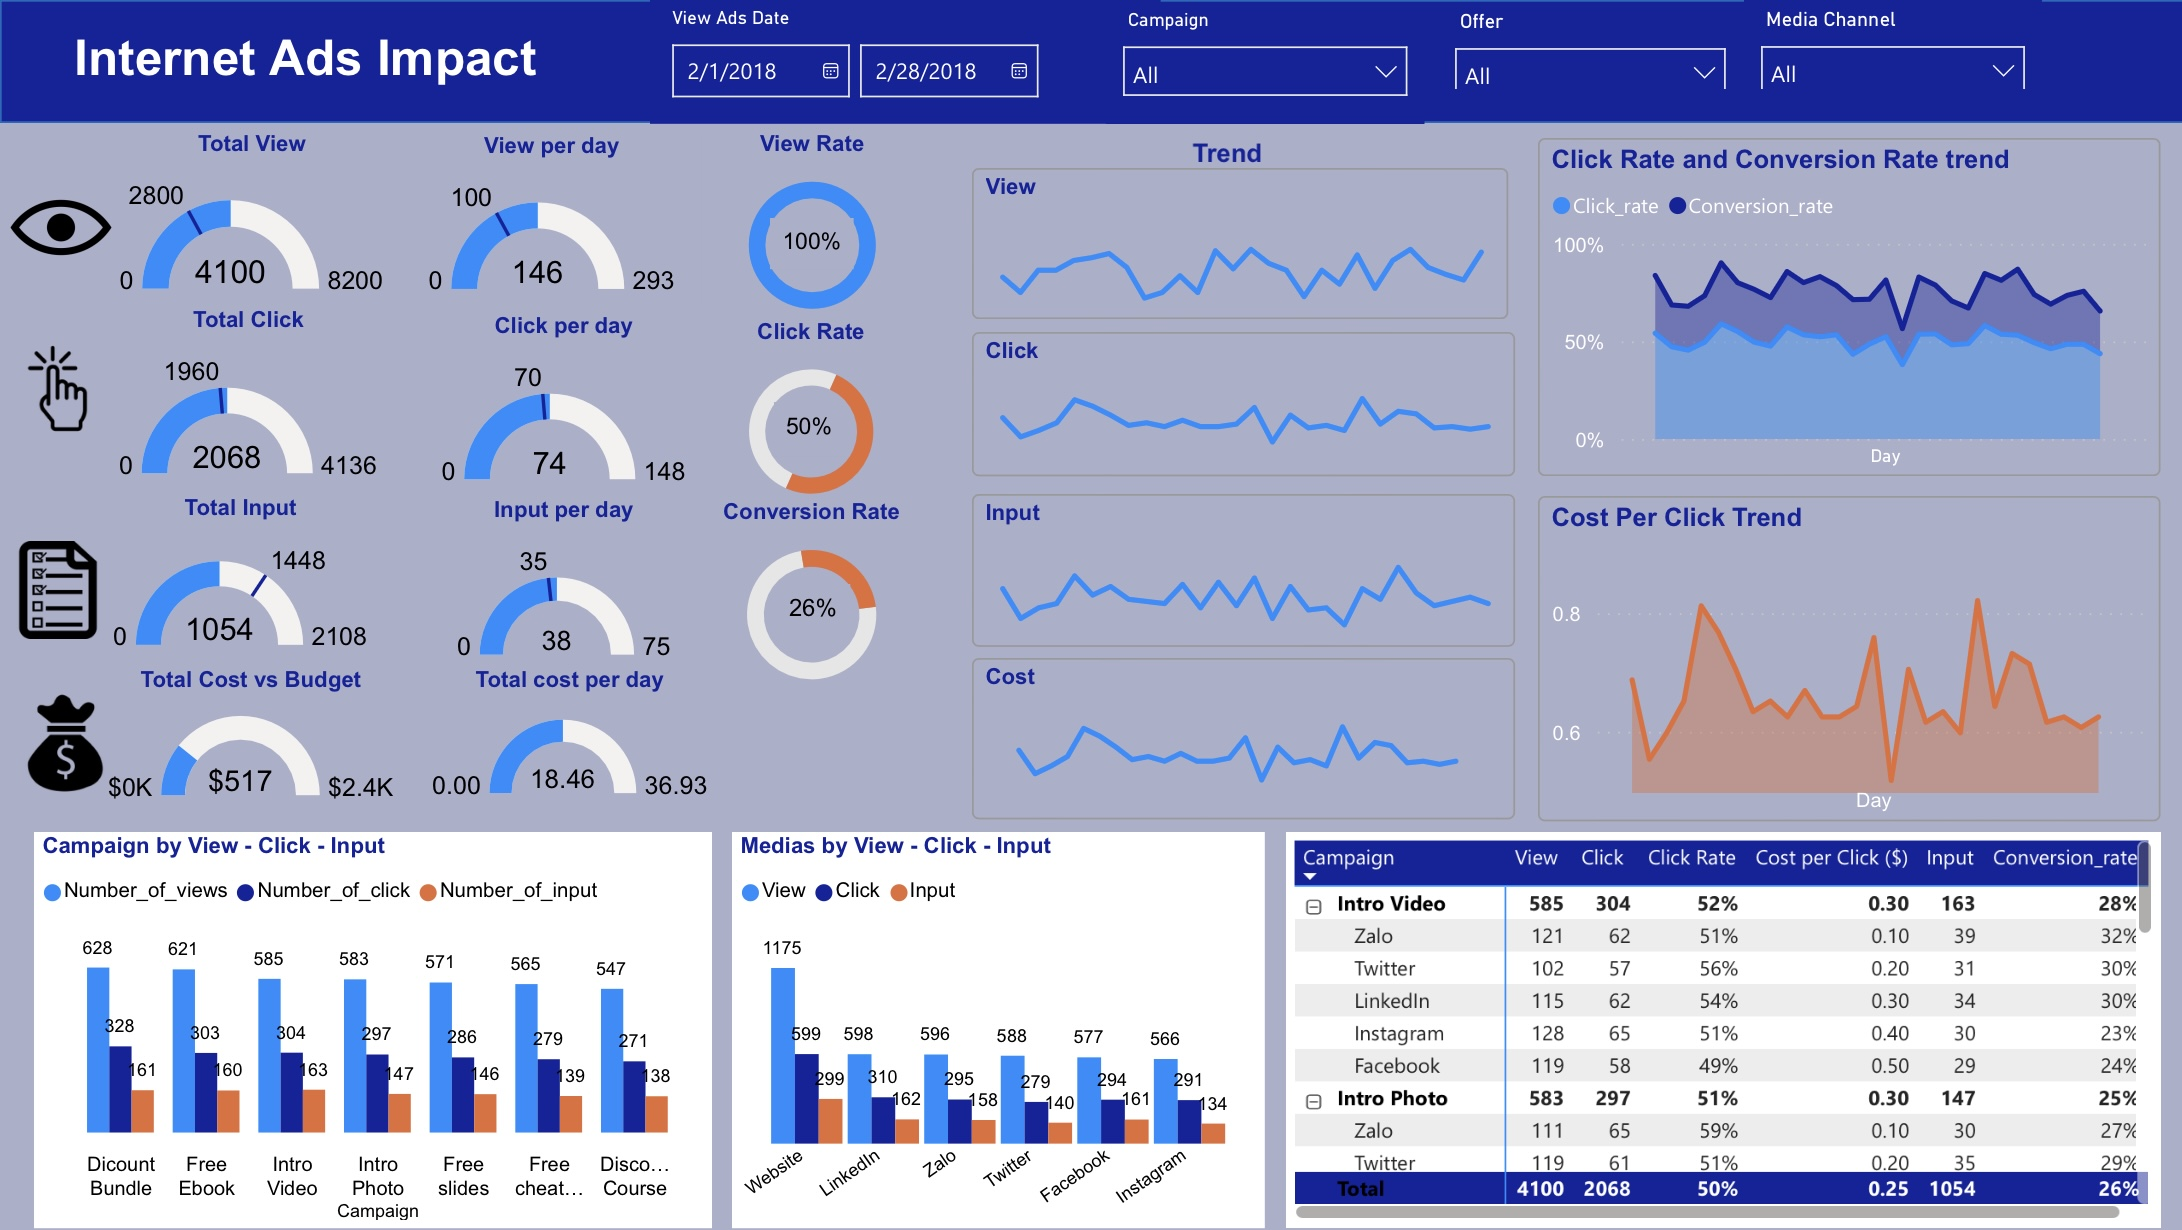

What the dashboard file says about the page in this screenshot:
{"tool":"powerbi","page":{"name":"Page 1","canvas":[1280,720],"ordinal":0},"visuals":[{"type":"textbox","title":"Trend","box":[692.7,81.3,299.2,27.1],"z":0},{"type":"donutChart","title":"View Rate","fields":{"Y":["Traffic1.Number_of_views"]},"box":[419,81,152,119],"z":1000},{"type":"donutChart","title":"Click Rate","fields":{"Y":["Traffic1.Number_of_click"],"Category":["Traffic1.Click Link?"]},"box":[405,186,189,111],"z":2000},{"type":"shape","box":[0,0,1280,72],"z":3000},{"type":"slicer","fields":{"Values":["Traffic1.View Ads Date"]},"box":[490,8,300,61],"z":4000},{"type":"pivotTable","fields":{"Rows":["Campaign.Campaign","Media.Media Channel"],"Values":["Traffic1.Number_of_views","Traffic1.Number_of_click","Traffic1.Click_rate","Avg(Media.Cost per click)","Traffic1.Number_of_input","Traffic1.Conversion_rate"]},"box":[764,487,516,232],"z":5000},{"type":"clusteredColumnChart","title":"Medias by View - Click - Input","fields":{"Category":["Media.Media Channel"],"Y":["Traffic1.Number_of_views","Traffic1.Number_of_click","Traffic1.Number_of_input"]},"box":[413,488,338,232],"z":6000},{"type":"clusteredColumnChart","title":"Campaign by View - Click - Input","fields":{"Category":["Campaign.Campaign"],"Y":["Traffic1.Number_of_views","Traffic1.Number_of_click","Traffic1.Number_of_input"]},"box":[22,485,383,234],"z":7000},{"type":"gauge","title":"Total Click","fields":{"TargetValue":["Campaign.number_of_goal_click"],"Y":["Traffic1.Number_of_click"]},"box":[106,186,179,107],"z":8000},{"type":"gauge","title":"Total View","fields":{"Y":["Traffic1.Number_of_views"],"TargetValue":["Campaign.MeasurGoal View"]},"box":[109,81,176,103],"z":9000},{"type":"gauge","title":"Total Input","fields":{"Y":["Traffic1.Number_of_input"],"TargetValue":["Campaign.Number_of_goal_input"]},"box":[109,292,170,99],"z":10000},{"type":"lineChart","title":"View","fields":{"Category":["Traffic1.View Ads Date"],"Y":["Traffic1.Number_of_views"]},"box":[569.2,98.4,314.2,88.3],"z":11000},{"type":"lineChart","title":"Click","fields":{"Y":["Traffic1.Number_of_click"],"Category":["Traffic1.View Ads Date"]},"box":[569.2,194.8,318.2,84.3],"z":12000},{"type":"card","fields":{"Values":["Traffic1.Actual_click_rate"]},"box":[481,236,41,32],"z":13000},{"type":"gauge","title":"Total Cost vs Budget","fields":{"Y":["Media.Total_cost"],"MaxValue":["Sum(Campaign.Spending Budget)"]},"box":[109,391,189,93],"z":14000},{"type":"gauge","title":"Input per day","fields":{"Y":["Traffic1.Input per day"],"TargetValue":["Traffic1.Goal input per day"]},"box":[285,290,176,103],"z":15000},{"type":"gauge","title":"View per day","fields":{"Y":["Traffic1.view_per_day"],"TargetValue":["Traffic1.goal_view_per_day"]},"box":[278,81,176,102],"z":16000},{"type":"gauge","fields":{"Y":["Media.Total cost per day"]},"box":[278,391,183,94],"z":17000},{"type":"stackedAreaChart","title":"Click Rate and Conversion Rate trend","fields":{"Y":["Traffic1.Click_rate","Traffic1.Conversion_rate"],"Category":["Traffic1.View Ads Date.Variation.Date Hierarchy.Day"]},"box":[900.5,81.3,364.4,197.8],"z":18000},{"type":"stackedAreaChart","title":"Cost Per Click Trend","fields":{"Category":["Traffic1.View Ads Date.Variation.Date Hierarchy.Day"],"Y":["Media.Total cost per day"]},"box":[900.5,290.1,364.4,190.7],"z":19000},{"type":"slicer","fields":{"Values":["Campaign.Campaign"]},"box":[718,8,186,60],"z":20000},{"type":"slicer","fields":{"Values":["Campaign.Offer"]},"box":[904,8,179,60],"z":21000},{"type":"slicer","fields":{"Values":["Media.Media Channel"]},"box":[1083,7,175,61],"z":22000},{"type":"gauge","title":"Click per day","fields":{"Y":["Traffic1.click_per_day"],"TargetValue":["Traffic1.goal_click_per_day"]},"box":[285,186,176,107],"z":23000},{"type":"card","fields":{"Values":["Traffic1.Number_of_views"]},"box":[471,132,49,31],"z":24000},{"type":"image","box":[0,98,106,88],"z":25000},{"type":"image","box":[0,182,91,129],"z":26000},{"type":"image","box":[8,306,83,85],"z":27000},{"type":"image","box":[12,399,77,81],"z":28000},{"type":"textbox","title":"Internet Ads Impact","box":[130,14,324,43],"z":29000},{"type":"donutChart","title":"Conversion Rate","fields":{"Category":["Traffic1.Input Form?"],"Y":["Traffic1.Number_of_views"]},"box":[419,290,163,120],"z":30000},{"type":"card","fields":{"Values":["Traffic1.Conversion_rate"]},"box":[479,342,43,25],"z":31000},{"type":"lineChart","title":"Cost","fields":{"Category":["Traffic1.View Ads Date.Variation.Date Hierarchy.Day"],"Y":["Media.Total_cost"]},"box":[569.2,385.5,318.2,94.4],"z":32000},{"type":"lineChart","title":"Input","fields":{"Y":["Traffic1.Number_of_input"],"Category":["Traffic1.View Ads Date"]},"box":[569.2,289.1,318.2,89.3],"z":33000},{"type":"image","box":[30,0,81,72],"z":34000}]}

Visuals, with their boxes in screenshot pixels (x1, y1, x2, y2), scaled from the page's 1280x720 canvas onto the 2182x1230 screenshot:
"Trend" textbox: (left=1181, top=139, right=1691, bottom=185)
"View Rate" donutChart: (left=714, top=138, right=973, bottom=342)
"Click Rate" donutChart: (left=690, top=318, right=1013, bottom=507)
shape: (left=0, top=0, right=2181, bottom=123)
slicer - Traffic1.View Ads Date: (left=835, top=14, right=1347, bottom=118)
pivotTable - Campaign.Campaign x Media.Media Channel: (left=1302, top=832, right=2181, bottom=1228)
"Medias by View - Click - Input" clusteredColumnChart: (left=704, top=834, right=1280, bottom=1229)
"Campaign by View - Click - Input" clusteredColumnChart: (left=38, top=829, right=690, bottom=1228)
"Total Click" gauge: (left=181, top=318, right=486, bottom=501)
"Total View" gauge: (left=186, top=138, right=486, bottom=314)
"Total Input" gauge: (left=186, top=499, right=476, bottom=668)
"View" lineChart: (left=970, top=168, right=1506, bottom=319)
"Click" lineChart: (left=970, top=333, right=1513, bottom=477)
card - Traffic1.Actual_click_rate: (left=820, top=403, right=890, bottom=458)
"Total Cost vs Budget" gauge: (left=186, top=668, right=508, bottom=827)
"Input per day" gauge: (left=486, top=495, right=786, bottom=671)
"View per day" gauge: (left=474, top=138, right=774, bottom=313)
gauge - Media.Total cost per day: (left=474, top=668, right=786, bottom=829)
"Click Rate and Conversion Rate trend" stackedAreaChart: (left=1535, top=139, right=2156, bottom=477)
"Cost Per Click Trend" stackedAreaChart: (left=1535, top=496, right=2156, bottom=821)
slicer - Campaign.Campaign: (left=1224, top=14, right=1541, bottom=116)
slicer - Campaign.Offer: (left=1541, top=14, right=1846, bottom=116)
slicer - Media.Media Channel: (left=1846, top=12, right=2144, bottom=116)
"Click per day" gauge: (left=486, top=318, right=786, bottom=501)
card - Traffic1.Number_of_views: (left=803, top=226, right=886, bottom=278)
image: (left=0, top=167, right=181, bottom=318)
image: (left=0, top=311, right=155, bottom=531)
image: (left=14, top=523, right=155, bottom=668)
image: (left=20, top=682, right=152, bottom=820)
"Internet Ads Impact" textbox: (left=222, top=24, right=774, bottom=97)
"Conversion Rate" donutChart: (left=714, top=495, right=992, bottom=700)
card - Traffic1.Conversion_rate: (left=817, top=584, right=890, bottom=627)
"Cost" lineChart: (left=970, top=659, right=1513, bottom=820)
"Input" lineChart: (left=970, top=494, right=1513, bottom=646)
image: (left=51, top=0, right=189, bottom=123)
